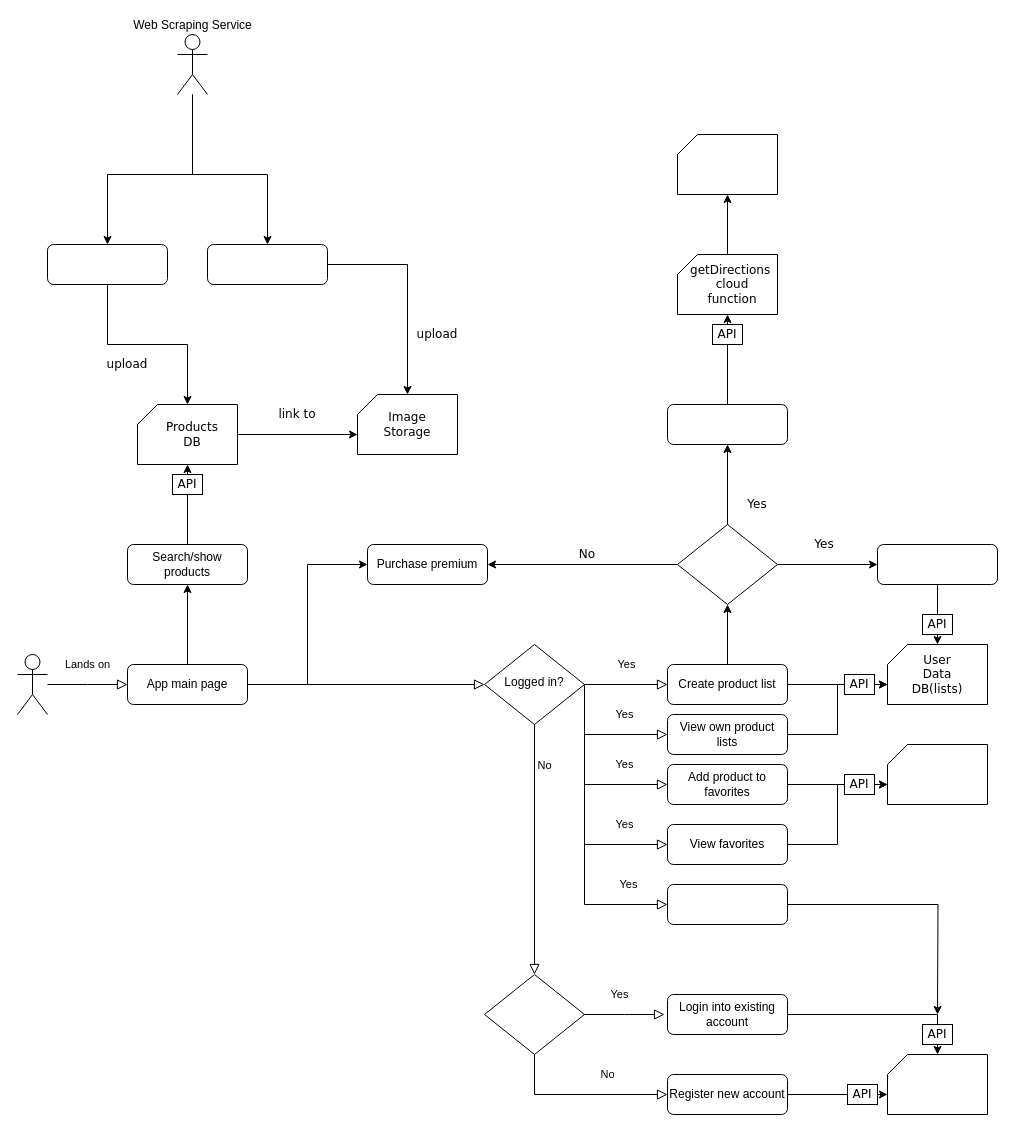
This 1015x1132 diagram has some shape labels left out. Here are the shapes that lost their labels. From the top down, the centre of each, then its label:
point (727, 164): Google Maps API
point (107, 264): Gather product information
point (267, 264): Save product thumbnails
point (727, 424): Get directions on maps
point (727, 564): Premium account?
point (937, 564): Get shareable link
point (32, 684): User
point (937, 774): User Data DB(favorites)
point (727, 904): Logout
point (534, 1014): Registered?
point (937, 1084): Firebase Accounts Service
